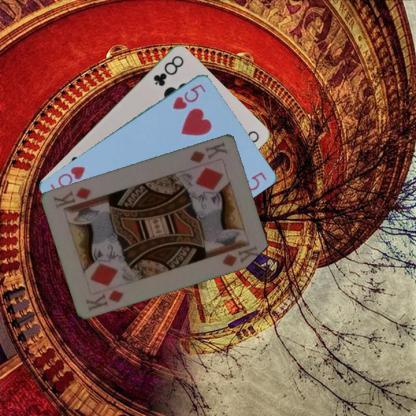5h: (169, 81, 207, 111)
8c: (150, 53, 185, 87)
Kd: (187, 139, 229, 164), (84, 287, 126, 312)
